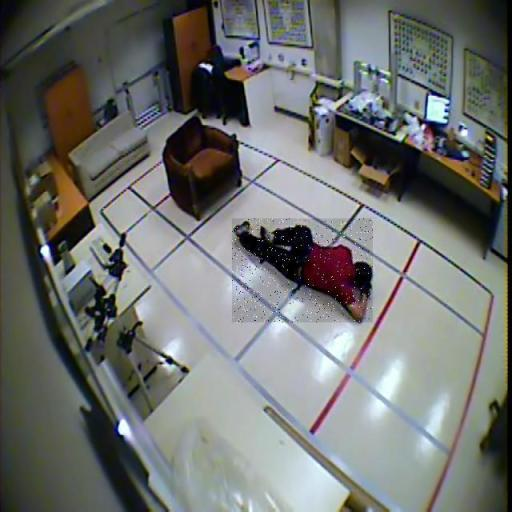Fall: (232, 219, 373, 323)
